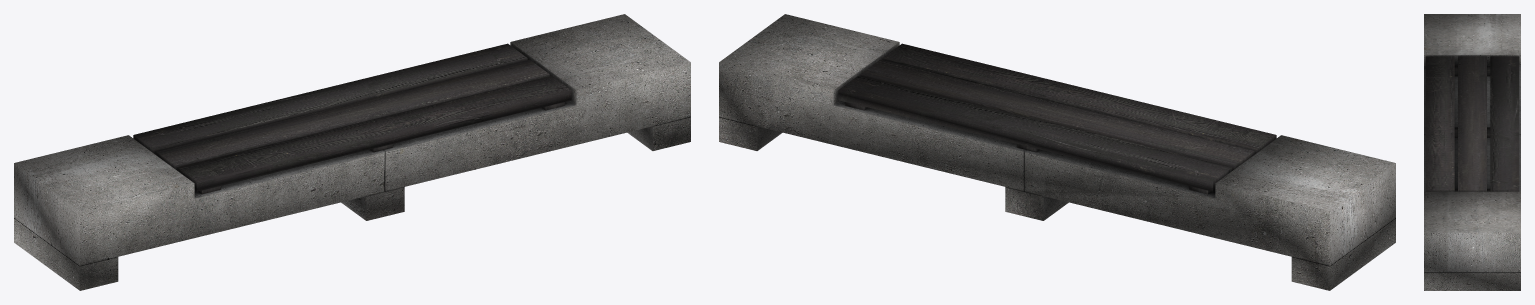
File: bench.dae
3 renders of one model, left to right at view 1: azimuth 30°, elevation 25°; view 2: azimuth 150°, elevation 25°; view 3: azimuth 270°, elevation 25°, orthographic. The views are drawn at different scales.
Visible parts, largest first — view 1: Bench01_LP; view 2: Bench01_LP; view 3: Bench01_LP.
Part boxes in pixels (x1,y1,x2,y2): Bench01_LP: (14,14,690,290); Bench01_LP: (719,14,1395,290); Bench01_LP: (1424,14,1520,290).
Bounding box in the file's own units: 4.01 × 0.75 × 0.5.
Materials: 1 (1 with a texture image).
